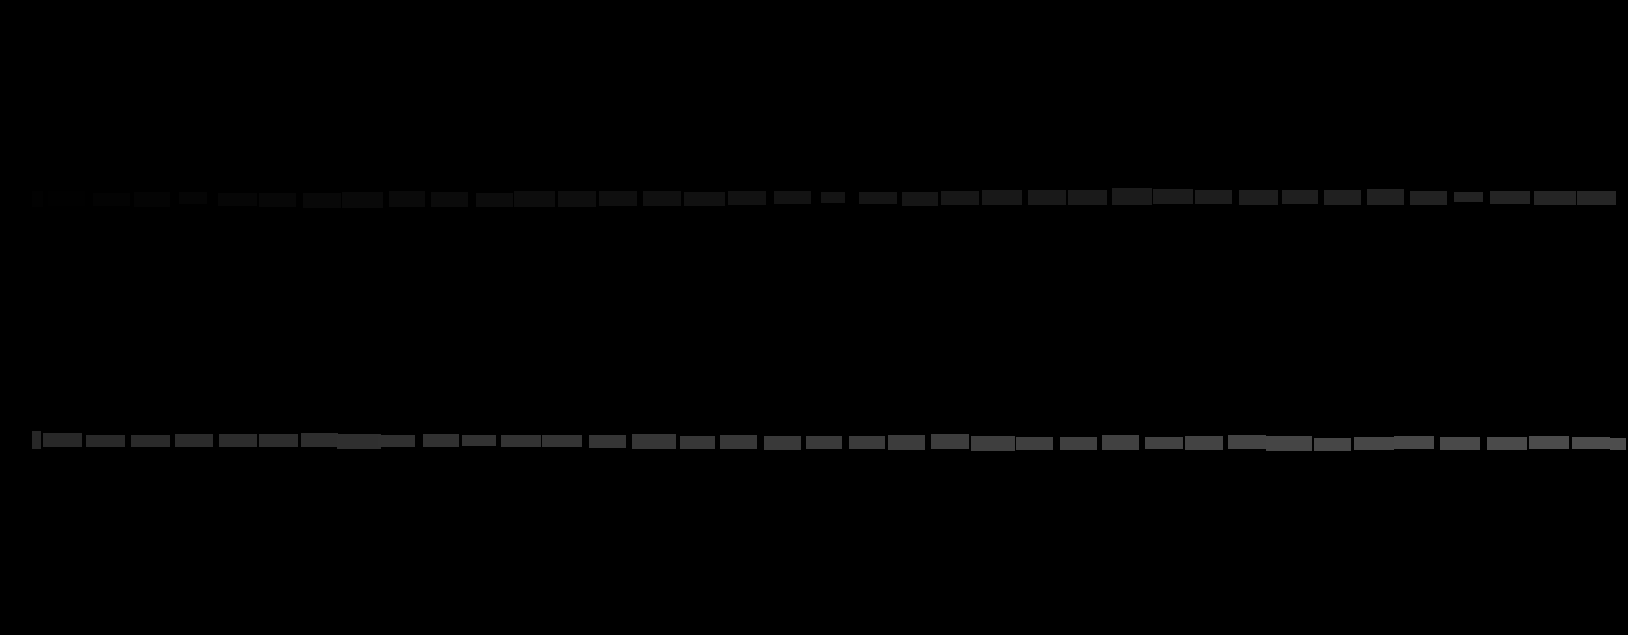light: (1266, 436, 1312, 451), (1112, 188, 1152, 205), (971, 436, 1015, 451), (514, 191, 555, 208), (337, 434, 381, 449), (632, 434, 676, 449), (342, 192, 383, 208), (558, 191, 596, 208), (1534, 191, 1576, 205), (982, 190, 1022, 205), (1154, 189, 1193, 204), (1239, 190, 1278, 205), (1367, 189, 1404, 205), (599, 191, 637, 206), (643, 191, 681, 206), (1028, 190, 1066, 205), (1068, 190, 1107, 205), (684, 192, 725, 206), (389, 191, 425, 208), (48, 191, 85, 206), (431, 192, 468, 208), (1324, 190, 1361, 205), (888, 435, 925, 450), (931, 434, 969, 449), (1102, 435, 1139, 450), (43, 433, 82, 447), (134, 192, 170, 208), (728, 191, 766, 205), (941, 191, 979, 205), (1577, 191, 1616, 205), (1185, 436, 1223, 450), (1490, 191, 1530, 204), (1354, 437, 1394, 450), (1487, 437, 1527, 450), (259, 193, 296, 208), (303, 193, 341, 208), (476, 193, 513, 208), (1195, 190, 1232, 204), (1410, 191, 1447, 205), (301, 433, 338, 447), (720, 435, 757, 449), (1228, 435, 1266, 449), (218, 193, 257, 206), (259, 434, 298, 447), (1394, 436, 1434, 449), (1440, 437, 1480, 450), (1529, 436, 1569, 449), (764, 436, 801, 450), (219, 434, 257, 447), (902, 192, 938, 206), (1282, 190, 1318, 204), (774, 191, 811, 204), (175, 434, 213, 447), (542, 435, 582, 447), (589, 435, 626, 448), (1060, 437, 1097, 450), (131, 435, 170, 447), (501, 435, 541, 447), (93, 193, 130, 206), (423, 434, 459, 447), (806, 436, 842, 449), (1016, 437, 1053, 450), (1314, 438, 1351, 451), (859, 192, 897, 204), (86, 435, 125, 447), (1572, 437, 1610, 449), (680, 436, 715, 449), (849, 436, 885, 449), (378, 435, 415, 447), (1145, 437, 1183, 449), (462, 435, 496, 446), (179, 192, 207, 204), (1454, 192, 1483, 202), (821, 192, 845, 203), (1610, 438, 1626, 450), (32, 191, 43, 208), (32, 431, 40, 449)
